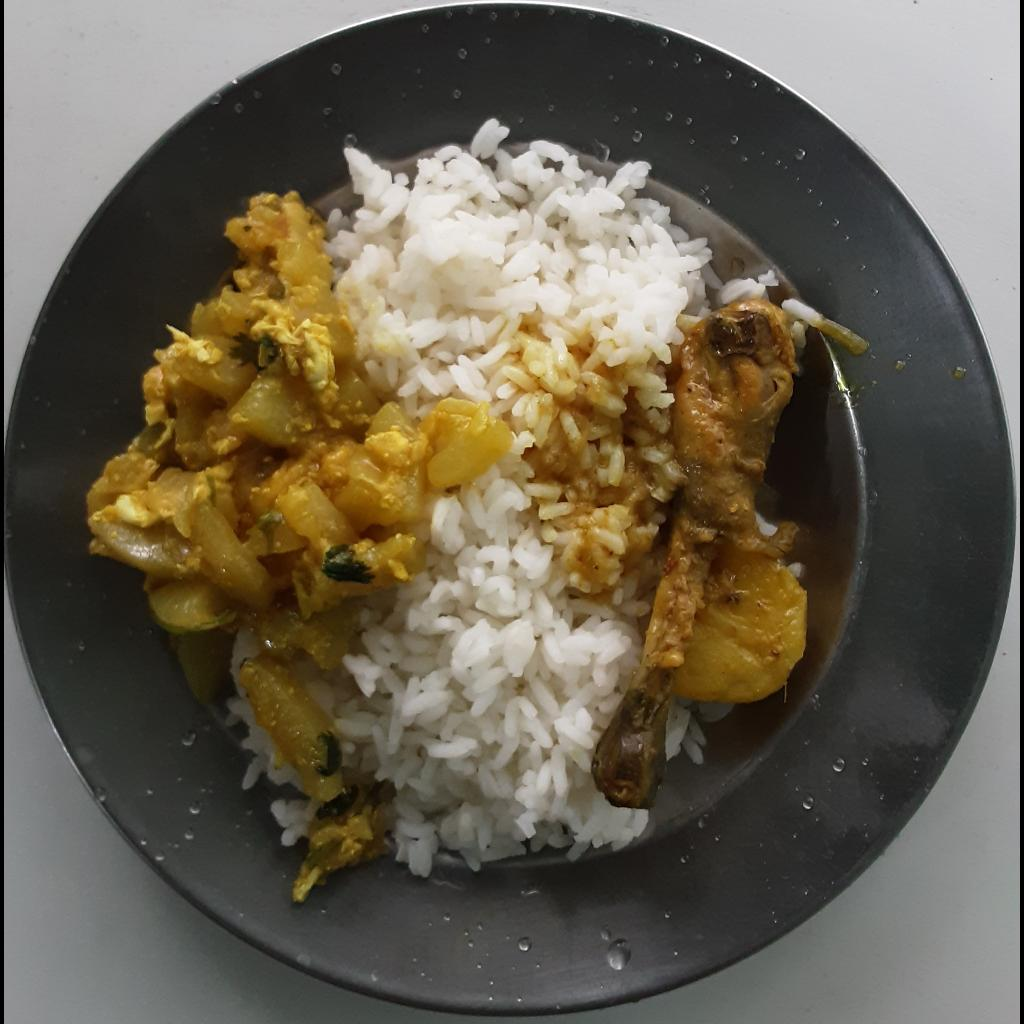beef: (593, 301, 803, 805)
egg: (103, 489, 164, 526)
lau: (89, 190, 536, 908)
potato: (675, 537, 809, 702)
rice: (291, 117, 782, 876)
